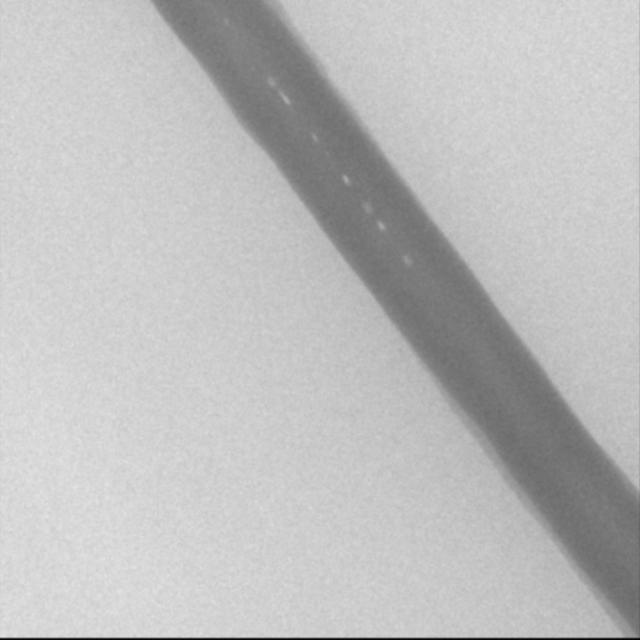air hole: (280, 91, 292, 107), (402, 253, 412, 268), (266, 78, 277, 90), (341, 173, 350, 187), (363, 202, 372, 215), (377, 219, 385, 233)
